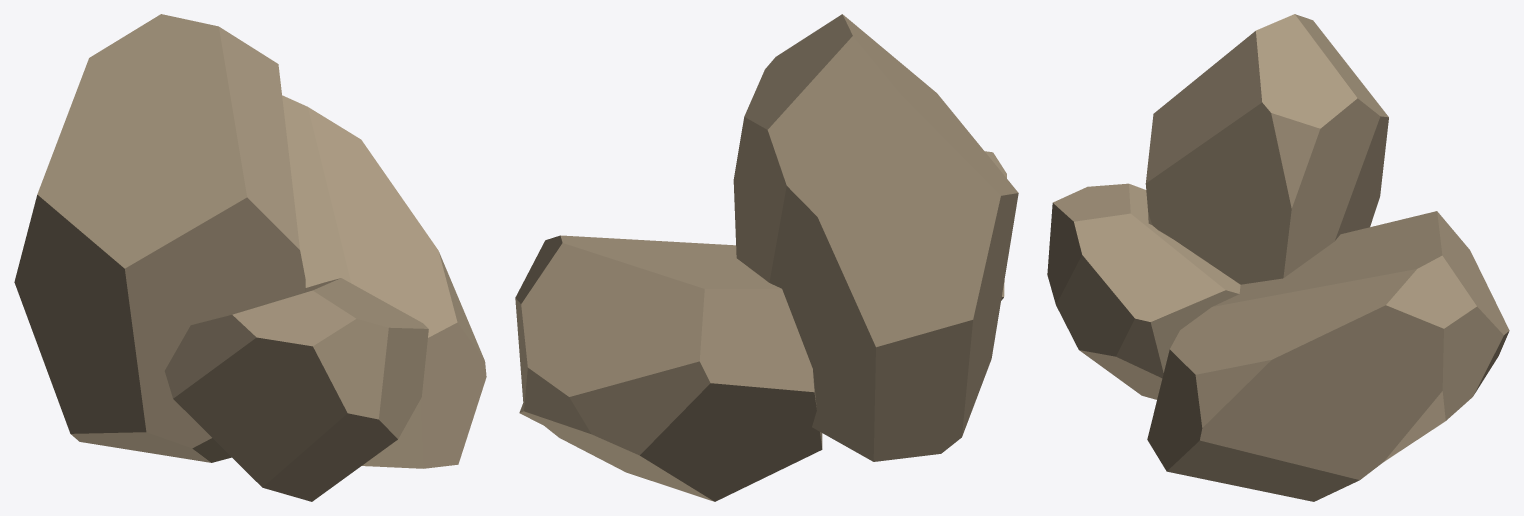
The model's file is rocks.dae.
3 renders of one model, left to right at view 1: azimuth 30°, elevation 25°; view 2: azimuth 150°, elevation 25°; view 3: azimuth 270°, elevation 25°, orthographic. The views are drawn at different scales.
Visible parts, largest first — view 1: Cube, Cube.001, Cube.002; view 2: Cube, Cube.002; view 3: Cube.002, Cube, Cube.001.
Part boxes in pixels (<box>): Cube: <box>14,14,305,462</box>; Cube.001: <box>164,278,428,501</box>; Cube.002: <box>282,95,486,468</box>; Cube: <box>733,14,1018,461</box>; Cube.002: <box>515,235,822,501</box>; Cube.002: <box>1147,211,1509,501</box>; Cube: <box>1145,14,1388,284</box>; Cube.001: <box>1047,183,1240,399</box>.
Bounding box in the file's own units: 2.4 × 2.88 × 2.75.
